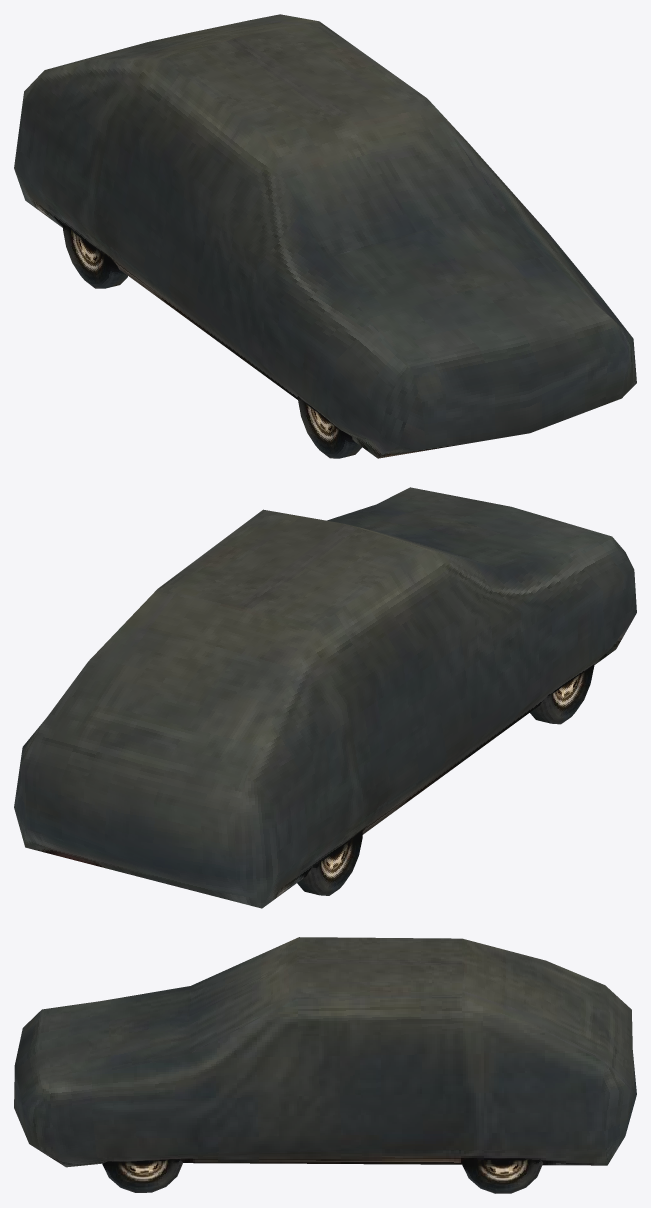
The model's file is carro_coberto.glb.
The picture shows the model from 3 angles, top to bottom: view 1: azimuth 30°, elevation 25°; view 2: azimuth 150°, elevation 25°; view 3: azimuth 270°, elevation 25°; orthographic projection. The views are drawn at different scales.
Parts seen in each view (by area): view 1: CarroCoberto; view 2: CarroCoberto; view 3: CarroCoberto.
Boxes of the visible parts, x1=… form: CarroCoberto: x1=14, y1=14, x2=636, y2=458; CarroCoberto: x1=14, y1=487, x2=636, y2=908; CarroCoberto: x1=14, y1=937, x2=636, y2=1193.
Size of the model in its own units: 1.77 by 1.45 by 4.43.
Materials: 1 (1 with a texture image).
